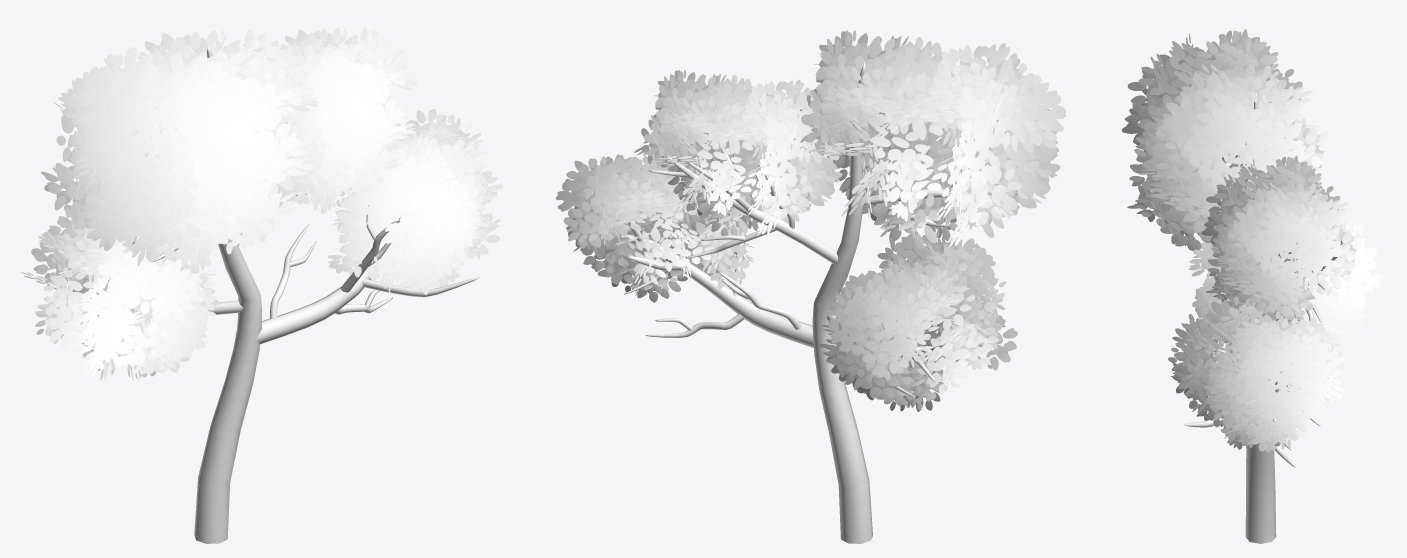
3 views of the same model, side by side, from view 1: azimuth 30°, elevation 25°; view 2: azimuth 150°, elevation 25°; view 3: azimuth 270°, elevation 25° (orthographic). The views are drawn at different scales.
Visible parts, largest first — view 1: NormalTree_3; view 2: NormalTree_3; view 3: NormalTree_3.
Part boxes in pixels (x1,y1,x2,y2): NormalTree_3: (20,26,502,543); NormalTree_3: (555,30,1066,543); NormalTree_3: (1121,29,1383,543).
Bounding box in the file's own units: 5.04 × 5.28 × 2.88.
Materials: 2 (1 with a texture image).
